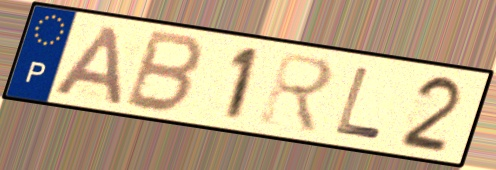1: (221, 45, 264, 124)
2: (396, 73, 469, 156)
A: (49, 23, 125, 108)
B: (120, 27, 209, 117)
L: (331, 64, 384, 143)
R: (256, 48, 337, 137)
